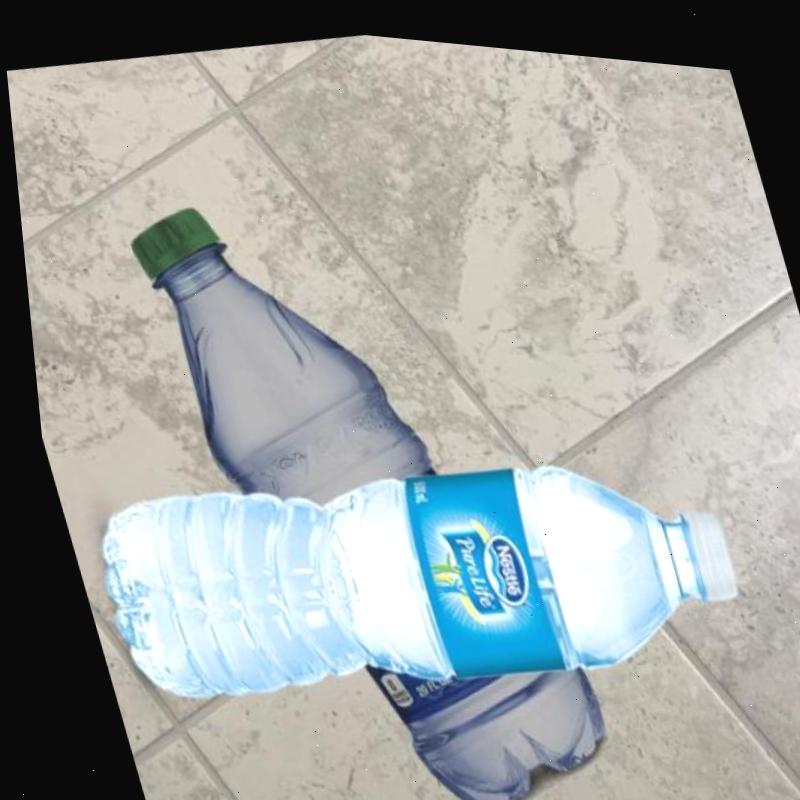botella: (111, 147, 616, 800), (64, 382, 757, 759)
